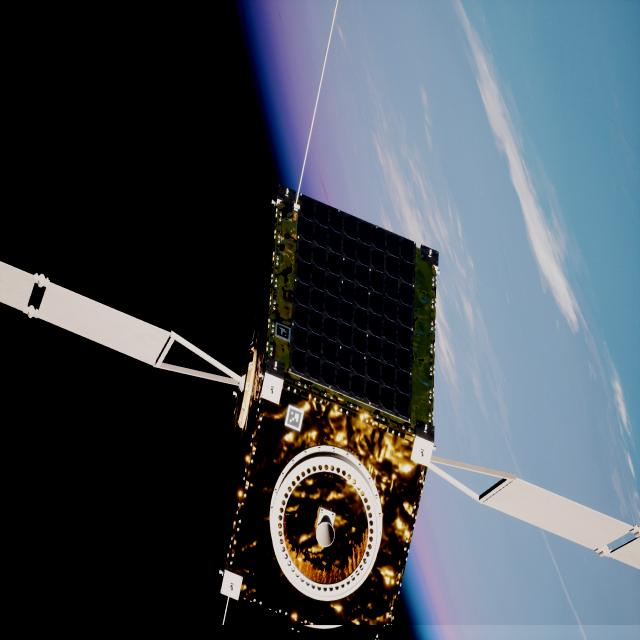medium_debris: (0, 187, 640, 640)
